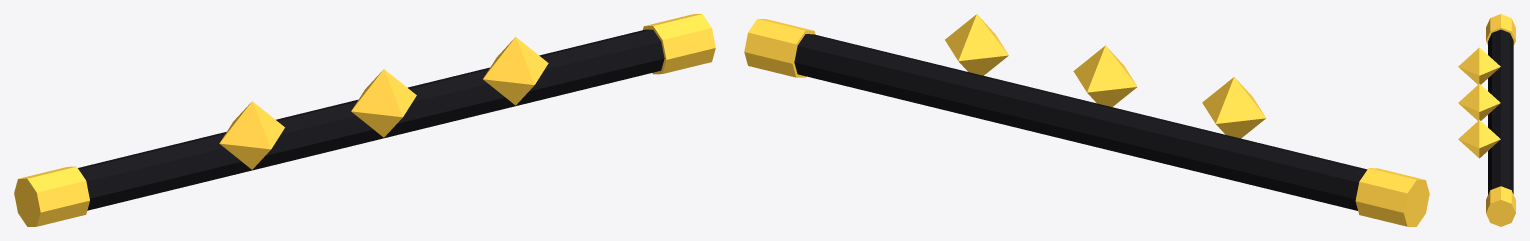
File: magic_wand.glb
3 renders of one model, left to right at view 1: azimuth 30°, elevation 25°; view 2: azimuth 150°, elevation 25°; view 3: azimuth 270°, elevation 25°, orthographic. The views are drawn at different scales.
Visible parts, largest first — view 1: wand_black, stars_gold, wand_gold; view 2: wand_black, stars_gold, wand_gold; view 3: wand_black, stars_gold, wand_gold.
Part boxes in pixels (left/top/right/bottom): wand_black: left=78, top=29, right=664, bottom=210; stars_gold: left=219, top=37, right=548, bottom=169; wand_gold: left=14, top=14, right=715, bottom=226; wand_black: left=794, top=34, right=1367, bottom=210; stars_gold: left=945, top=14, right=1266, bottom=138; wand_gold: left=744, top=19, right=1429, bottom=226; wand_black: left=1488, top=29, right=1513, bottom=194; stars_gold: left=1458, top=47, right=1500, bottom=158; wand_gold: left=1486, top=14, right=1515, bottom=226.
Size of the model in its own units: 0.41 by 0.052 by 0.054.
